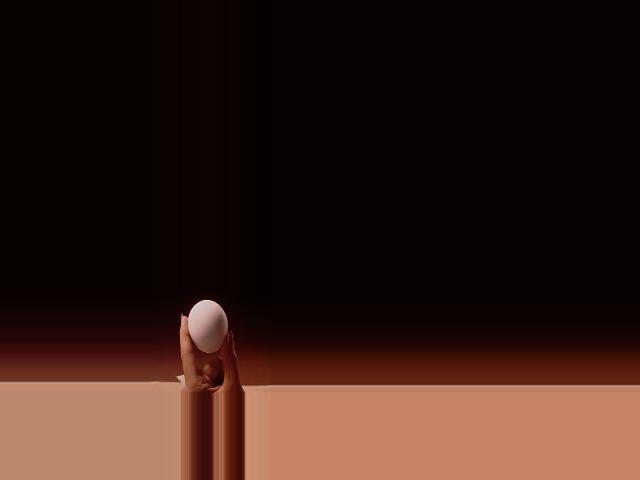egg: (187, 299, 228, 353)
